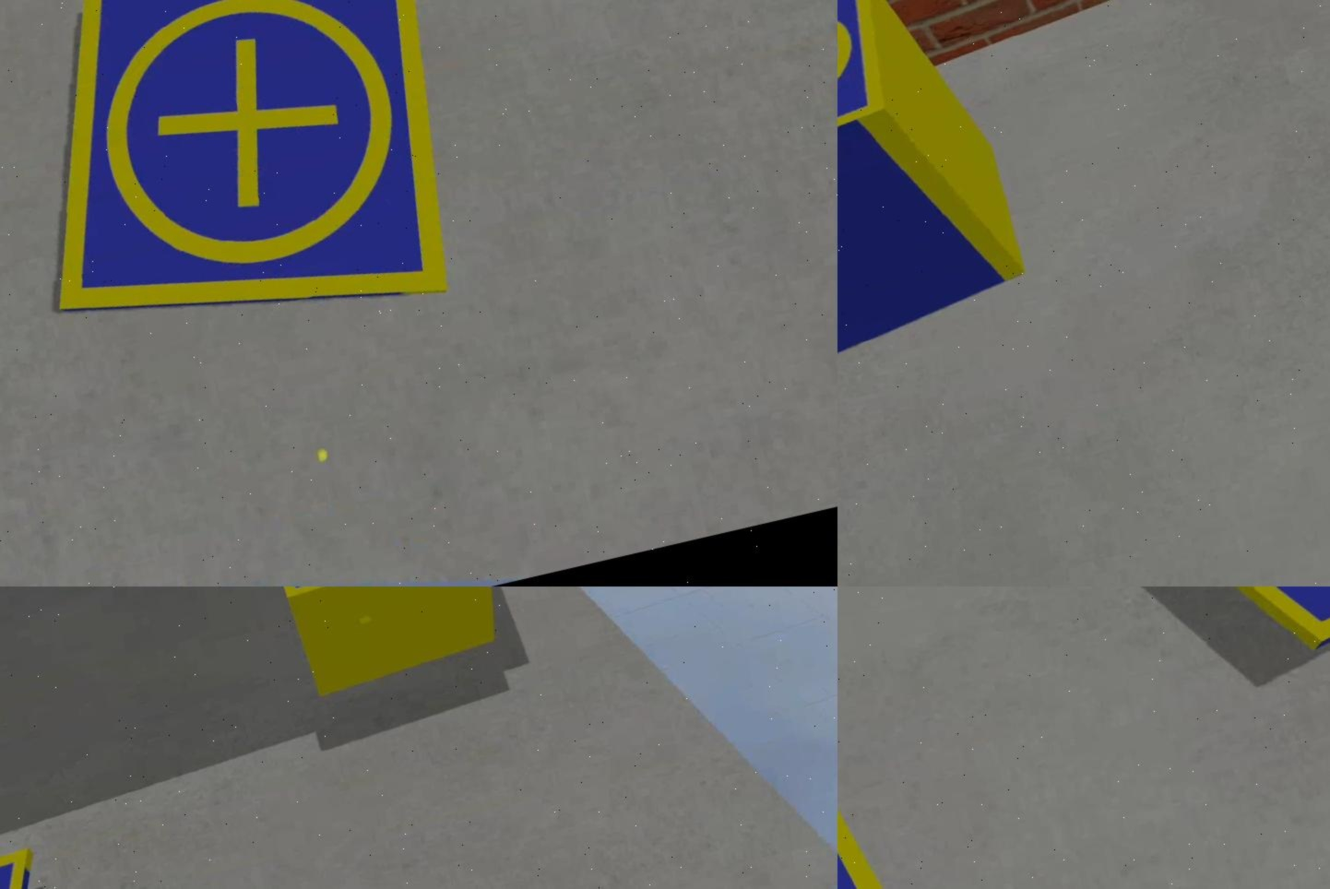small_base: (1, 1, 490, 382), (1071, 587, 1330, 688), (838, 1, 898, 172)
